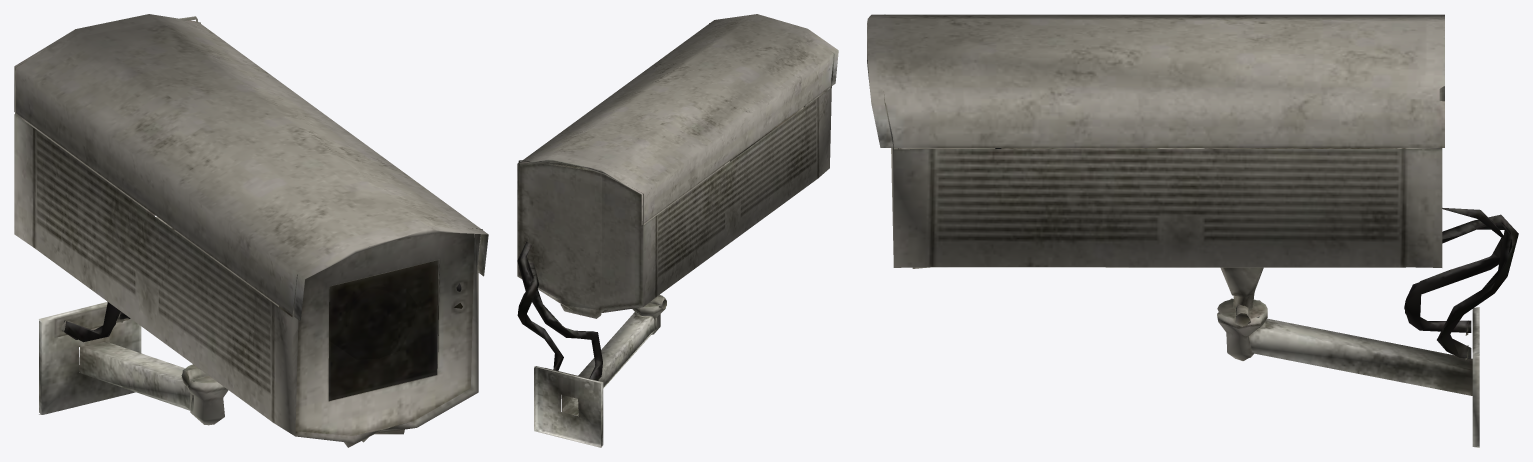
Rendered from telecamera.glb.
The picture shows the model from 3 angles, left to right: view 1: azimuth 30°, elevation 25°; view 2: azimuth 150°, elevation 25°; view 3: azimuth 270°, elevation 25°; orthographic projection. The views are drawn at different scales.
Visible parts, largest first — view 1: CCTV_Camera_low.001, CCTV_Camera_low; view 2: CCTV_Camera_low.001, CCTV_Camera_low; view 3: CCTV_Camera_low.001, CCTV_Camera_low.
Boxes of the visible parts, left/top/right/bottom form: CCTV_Camera_low.001: left=14, top=14, right=488, bottom=447; CCTV_Camera_low: left=62, top=260, right=462, bottom=401; CCTV_Camera_low.001: left=517, top=14, right=838, bottom=447; CCTV_Camera_low: left=517, top=106, right=804, bottom=380; CCTV_Camera_low.001: left=867, top=14, right=1479, bottom=447; CCTV_Camera_low: left=898, top=148, right=1518, bottom=358.
Size of the model in its own units: 0.6507 by 1.31 by 2.
2 materials, 2 textured.
